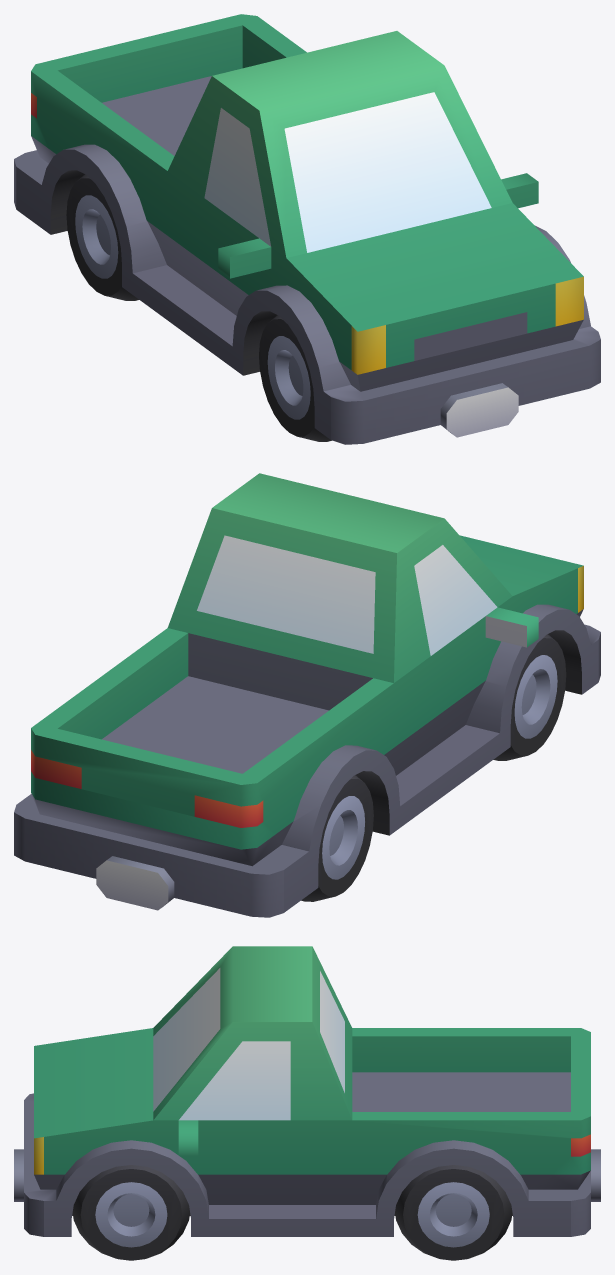
The model's file is car-truck.obj.
3 renders of one model, top to bottom at view 1: azimuth 30°, elevation 25°; view 2: azimuth 150°, elevation 25°; view 3: azimuth 270°, elevation 25°, orthographic. The views are drawn at different scales.
Visible parts, largest first — view 1: body, wheel-front-right, wheel-back-right; view 2: body, wheel-front-right, wheel-back-right; view 3: body, wheel-back-left, wheel-front-left.
Part boxes in pixels (bbox=[...]): body: bbox=[14, 14, 600, 444]; wheel-front-right: bbox=[259, 315, 331, 441]; wheel-back-right: bbox=[66, 174, 138, 300]; body: bbox=[14, 473, 600, 917]; wheel-front-right: bbox=[493, 634, 566, 760]; wheel-back-right: bbox=[301, 775, 373, 901]; body: bbox=[14, 946, 600, 1236]; wheel-back-left: bbox=[395, 1165, 512, 1260]; wheel-front-left: bbox=[72, 1165, 189, 1260].
Size of the model in its own units: 1.5 by 1.3 by 2.95.
